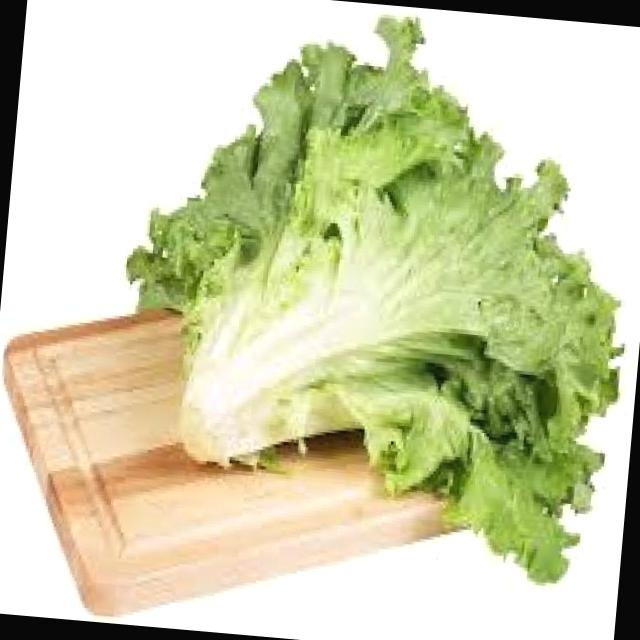Lettuce-Ready-to-Harvest: (152, 18, 613, 568)
